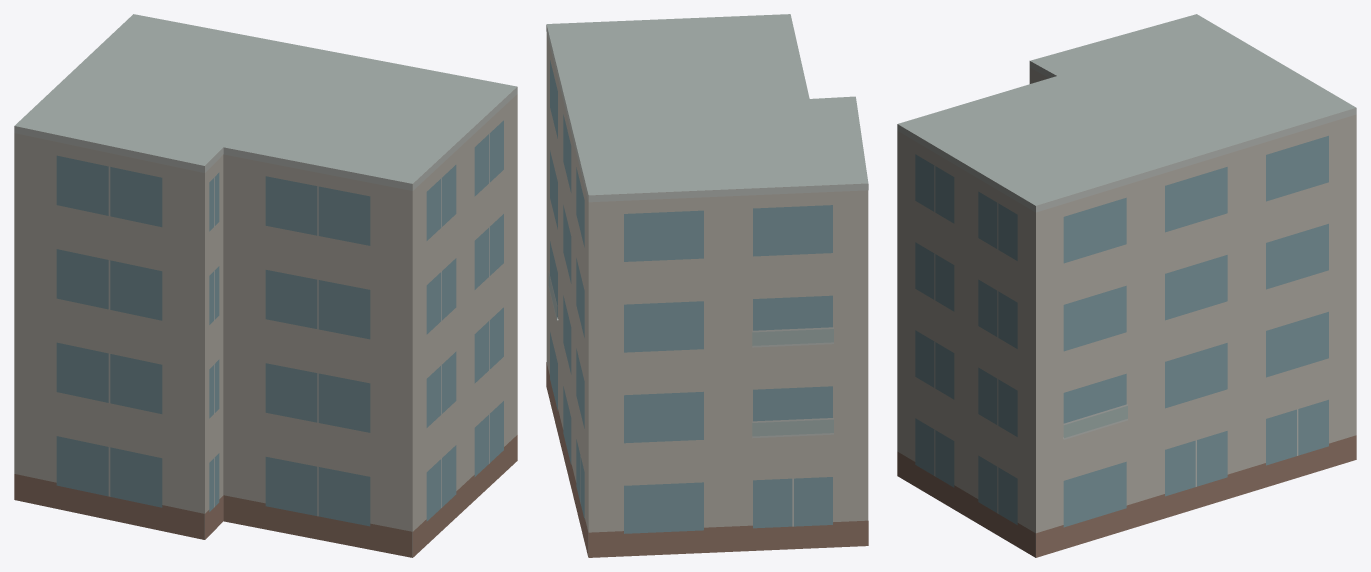
Rendered from survey-upis-33018798.glb.
The picture shows the model from 3 angles, left to right: view 1: azimuth 30°, elevation 25°; view 2: azimuth 150°, elevation 25°; view 3: azimuth 270°, elevation 25°; orthographic projection. The views are drawn at different scales.
Visible parts, largest first — view 1: survey-upis-33018798.tmp; view 2: survey-upis-33018798.tmp; view 3: survey-upis-33018798.tmp.
Boxes of the visible parts, x1,y1,x2,y2 form: survey-upis-33018798.tmp: [14, 14, 517, 557]; survey-upis-33018798.tmp: [546, 14, 868, 557]; survey-upis-33018798.tmp: [897, 14, 1356, 557].
Bounding box in the file's own units: 15 × 12.82 × 15.16.
